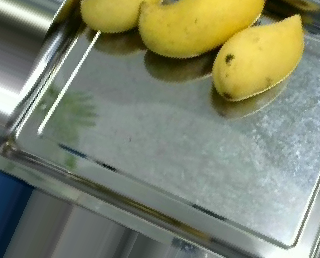Mango: (210, 12, 306, 104), (138, 0, 268, 61)
